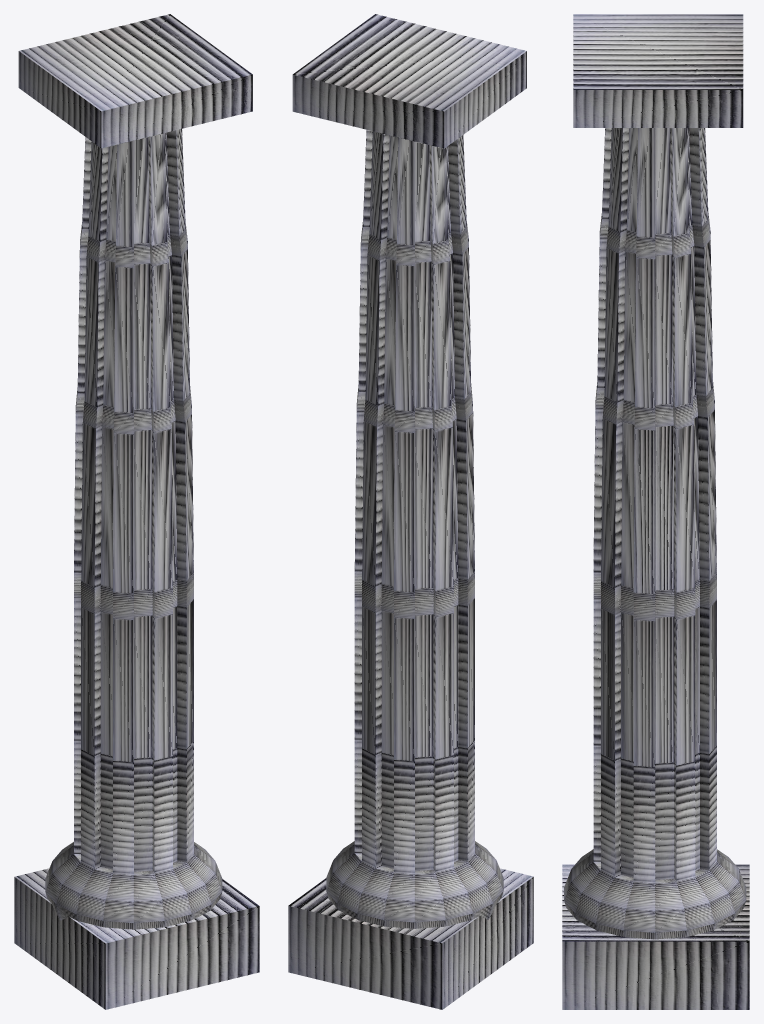
File: Level 2 Building.fbx
3 renders of one model, left to right at view 1: azimuth 30°, elevation 25°; view 2: azimuth 150°, elevation 25°; view 3: azimuth 270°, elevation 25°, orthographic. The views are drawn at different scales.
Parts seen in each view (by area): view 1: Cylinder001; view 2: Cylinder001; view 3: Cylinder001.
Boxes of the visible parts, x1,y1,x2,y2 form: Cylinder001: (14,14,259,1009); Cylinder001: (288,14,533,1009); Cylinder001: (562,14,749,1009).
Size of the model in its own units: 21.98 by 119 by 21.92.
1 material, 1 textured.
